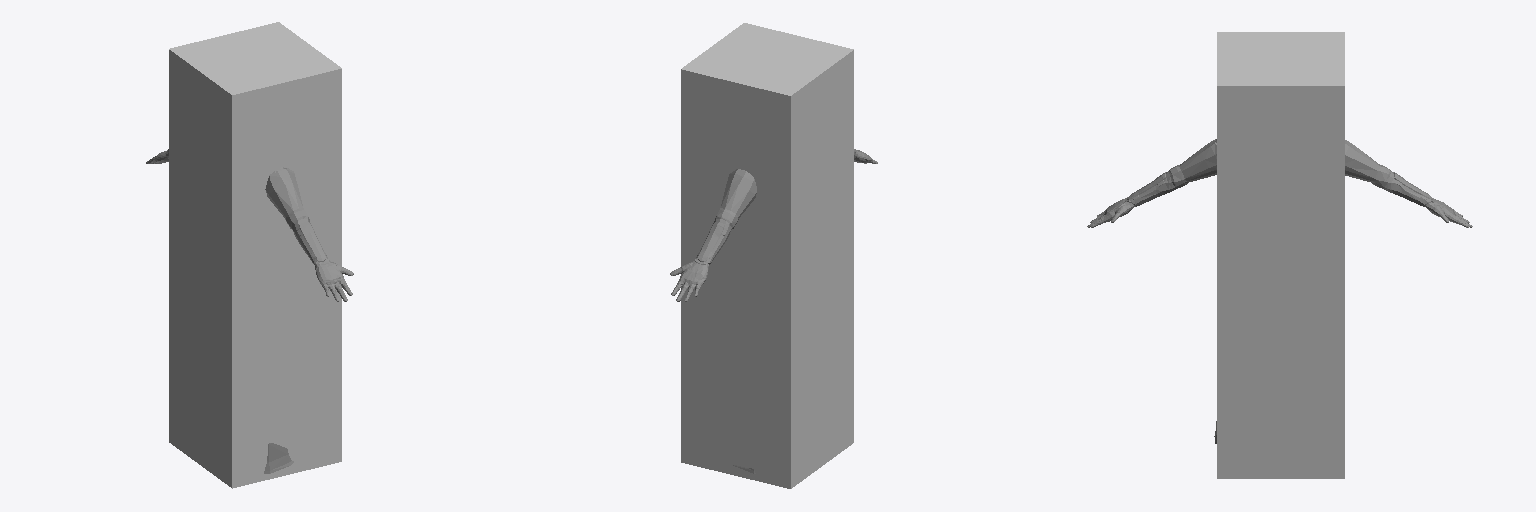
Rendered from MainCharacter.obj.
The picture shows the model from 3 angles: view 1: azimuth 30°, elevation 25°; view 2: azimuth 150°, elevation 25°; view 3: azimuth 270°, elevation 25°; orthographic projection.
Parts seen in each view (by area): view 1: collision, box; view 2: collision, box; view 3: collision, box.
Boxes of the visible parts, box(x1,y1,x2,y2) form: collision: box(169, 22, 341, 488); box: box(146, 149, 353, 473); collision: box(681, 23, 853, 488); box: box(670, 149, 877, 473); collision: box(1217, 32, 1344, 478); box: box(1087, 139, 1472, 443).
Size of the model in its own units: 1.19 by 4.08 by 3.62.